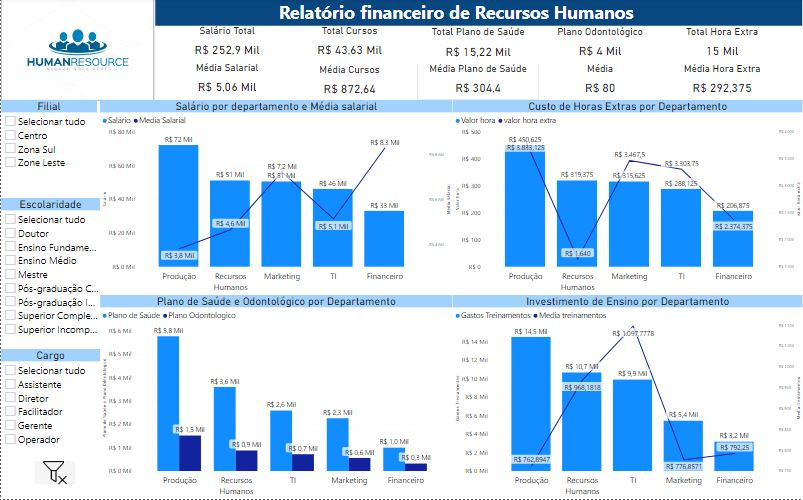

The dashboard page shown, as its layout file describes it:
{"tool":"powerbi","page":{"name":"Page 1","canvas":[2400,1500],"ordinal":0},"visuals":[{"type":"card","title":"Salário Total","fields":{"Values":["TableMedidas.Salario total"]},"box":[495.1,82,365.8,110.4],"z":0},{"type":"card","title":"Plano Odontológico","fields":{"Values":["TableMedidas.Plano Odontologico"]},"box":[1611.6,85.2,365.8,110.4],"z":1000},{"type":"card","title":"Média Plano de Saúde","fields":{"Values":["TableMedidas.Media Plano de saude"]},"box":[1245.7,195.5,365.8,110.4],"z":2000},{"type":"card","title":"Média","fields":{"Values":["TableMedidas.Media Plano Odontologico"]},"box":[1611.6,195.5,365.8,110.4],"z":3000},{"type":"card","title":"Média Salarial","fields":{"Values":["TableMedidas.Media Salarial"]},"box":[495.1,192.4,365.8,110.4],"z":4000},{"type":"card","title":"Total Plano de Saúde","fields":{"Values":["TableMedidas.Total Plano Saude"]},"box":[1245.7,85.2,365.8,113.5],"z":5000},{"type":"card","title":"Total Cursos","fields":{"Values":["TableMedidas.Total Cursos"]},"box":[861,82,362.7,110.4],"z":6000},{"type":"card","title":"Média Cursos","fields":{"Values":["TableMedidas.Media Cursos"]},"box":[861,198.7,362.7,110.4],"z":7000},{"type":"shape","box":[459.9,0,1938.9,84.2],"z":8000},{"type":"image","box":[0,0,458.3,306.6],"z":9000},{"type":"textbox","box":[826.3,0,1110.1,88.3],"z":10000},{"type":"card","title":"Total Hora Extra","fields":{"Values":["TableMedidas.Tot valor hr extra"]},"box":[1977.4,85.2,365.8,110.4],"z":11000},{"type":"card","title":"Média Hora Extra","fields":{"Values":["TableMedidas.Media hora extra"]},"box":[1977.4,195.5,365.8,110.4],"z":12000},{"type":"lineStackedColumnComboChart","title":"Salário por departamento e Média salarial","fields":{"Category":["D_Departamento.nomeDepartamento"],"Y":["Sum(F_Funcionario.Salário)"],"Y2":["TableMedidas.Media Salarial"]},"box":[297.3,306.6,1056,582.2],"z":13000},{"type":"lineStackedColumnComboChart","title":"Custo de Horas Extras por Departamento","fields":{"Category":["D_Departamento.nomeDepartamento"],"Y":["Sum(F_Funcionario.Valor hora)"],"Y2":["Sum(F_Funcionario.valor hora extra)"]},"box":[1353.3,306.6,1046.7,582.2],"z":14000},{"type":"lineClusteredColumnComboChart","title":"Plano de Saúde e Odontológico por Departamento","fields":{"Category":["D_Departamento.nomeDepartamento"],"Y":["Sum(F_Funcionario.Plano de Saúde)","Sum(F_Funcionario.Plano Odontologico)"]},"box":[297.3,888.8,1056,610.1],"z":15000},{"type":"lineClusteredColumnComboChart","title":"Investimento de Ensino por Departamento","fields":{"Category":["D_Departamento.nomeDepartamento"],"Y":["Sum(F_Funcionario.Gastos Treinamentos)"],"Y2":["TableMedidas.Media treinamentos"]},"box":[1353.3,888.8,1046.7,610.1],"z":16000},{"type":"slicer","title":"Filial","fields":{"Values":["D_Filial.nomeFilial"]},"box":[0,306.6,288,275.6],"z":17000},{"type":"slicer","title":"Escolaridade","fields":{"Values":["F_Funcionario.Escolaridade"]},"box":[0,597.7,297.3,452.1],"z":18000},{"type":"slicer","title":"Cargo","fields":{"Values":["D_Cargo.nomeCargo"]},"box":[0,1049.8,297.3,315.9],"z":19000},{"type":"image","box":[96.2,1364.7,132.3,111.2],"z":20000}]}

Visuals, with their boxes in screenshot pixels (x1, y1, x2, y2), scaled from the page's 2400x1500 canvas onto the 803x500 screenshot:
"Salário Total" card: BBox(166, 27, 288, 64)
"Plano Odontológico" card: BBox(539, 28, 662, 65)
"Média Plano de Saúde" card: BBox(417, 65, 539, 102)
"Média" card: BBox(539, 65, 662, 102)
"Média Salarial" card: BBox(166, 64, 288, 101)
"Total Plano de Saúde" card: BBox(417, 28, 539, 66)
"Total Cursos" card: BBox(288, 27, 409, 64)
"Média Cursos" card: BBox(288, 66, 409, 103)
shape: BBox(154, 0, 802, 28)
image: BBox(0, 0, 153, 102)
textbox: BBox(276, 0, 648, 29)
"Total Hora Extra" card: BBox(662, 28, 784, 65)
"Média Hora Extra" card: BBox(662, 65, 784, 102)
"Salário por departamento e Média salarial" lineStackedColumnComboChart: BBox(99, 102, 453, 296)
"Custo de Horas Extras por Departamento" lineStackedColumnComboChart: BBox(453, 102, 802, 296)
"Plano de Saúde e Odontológico por Departamento" lineClusteredColumnComboChart: BBox(99, 296, 453, 499)
"Investimento de Ensino por Departamento" lineClusteredColumnComboChart: BBox(453, 296, 802, 499)
"Filial" slicer: BBox(0, 102, 96, 194)
"Escolaridade" slicer: BBox(0, 199, 99, 350)
"Cargo" slicer: BBox(0, 350, 99, 455)
image: BBox(32, 455, 76, 492)
